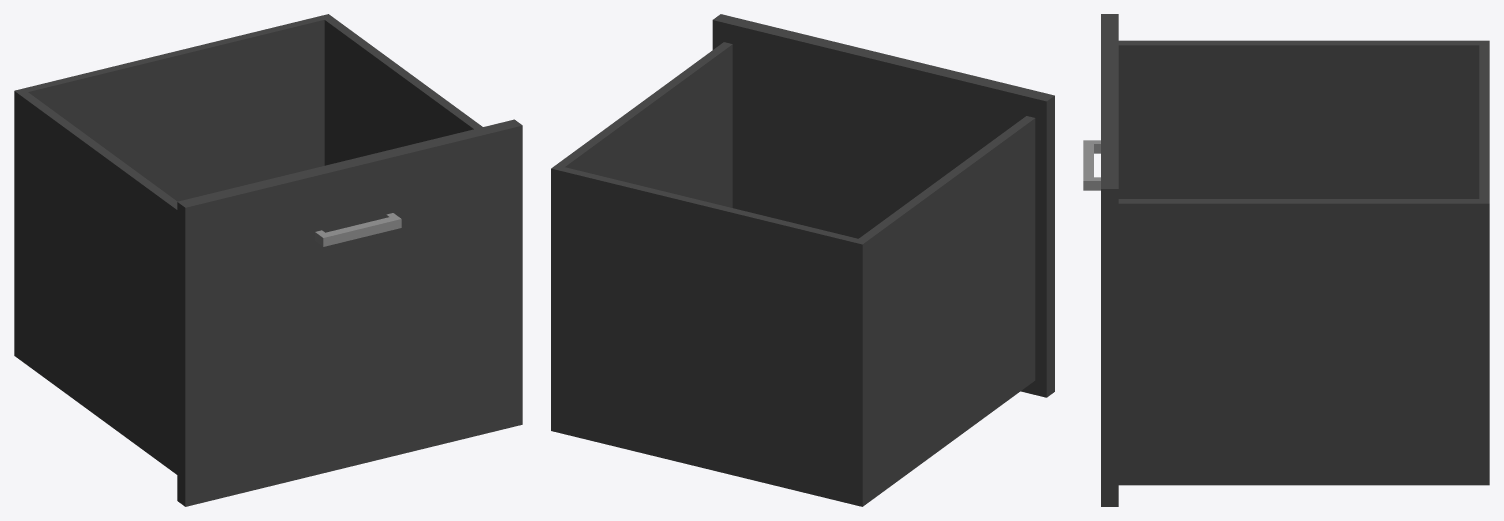
File: Door1_C3_06.fbx
The picture shows the model from 3 angles, left to right: view 1: azimuth 30°, elevation 25°; view 2: azimuth 150°, elevation 25°; view 3: azimuth 270°, elevation 25°; orthographic projection. The views are drawn at different scales.
Visible parts, largest first — view 1: Door1_C3_06; view 2: Door1_C3_06; view 3: Door1_C3_06.
Boxes of the visible parts, x1,y1,x2,y2 form: Door1_C3_06: (14,14,522,506); Door1_C3_06: (551,14,1054,506); Door1_C3_06: (1083,14,1489,506).
Size of the model in its own units: 59 by 50 by 57.89.
